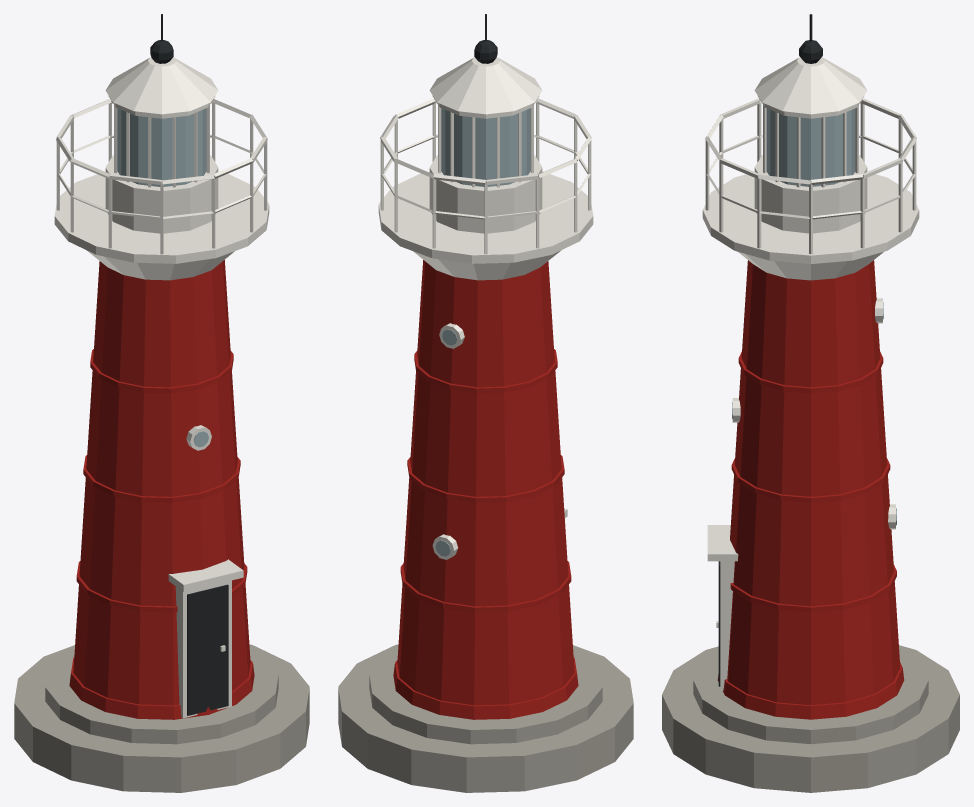
File: mole_light_north.glb
3 views of the same model, side by side, from view 1: azimuth 30°, elevation 25°; view 2: azimuth 150°, elevation 25°; view 3: azimuth 270°, elevation 25° (orthographic).
Parts seen in each view (by area): view 1: MoleLightNorth; view 2: MoleLightNorth; view 3: MoleLightNorth.
Boxes of the visible parts, x1,y1,x2,y2 form: MoleLightNorth: (14, 14, 309, 792); MoleLightNorth: (338, 14, 633, 792); MoleLightNorth: (662, 14, 959, 792).
Size of what is drawn, in the model's own units: 3.8 by 10.07 by 3.8.
